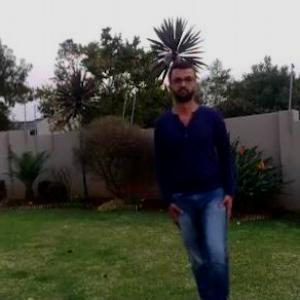follow: (153, 41, 242, 299)
